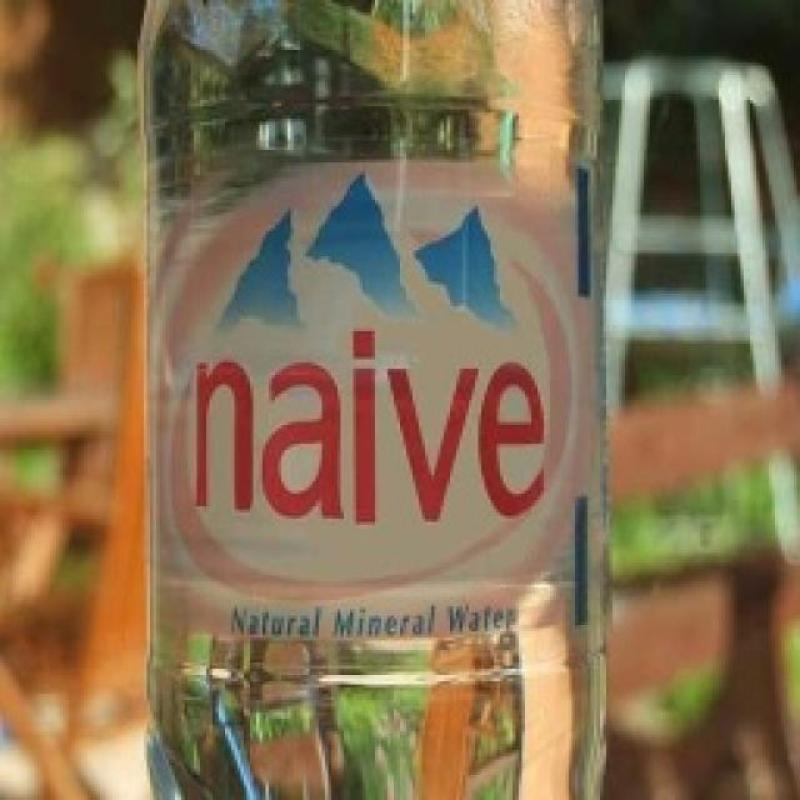botella: (133, 0, 618, 800)
